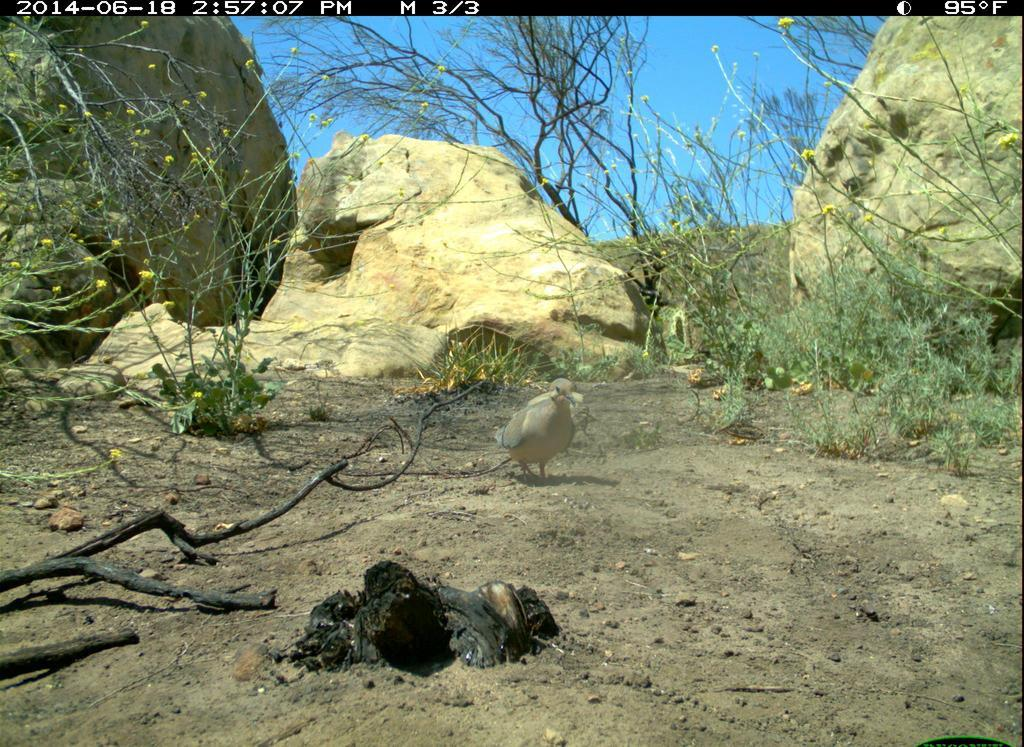bird: (490, 373, 582, 487)
